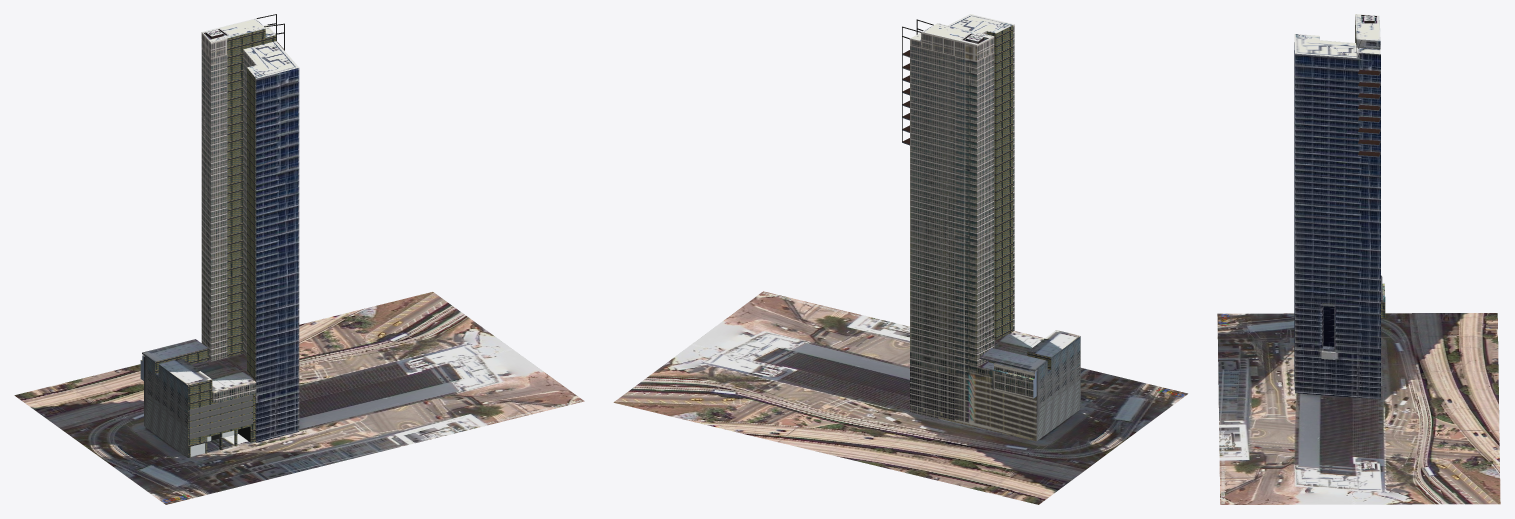
Rendered from Marquis-Miami.fbx.
3 views of the same model, side by side, from view 1: azimuth 30°, elevation 25°; view 2: azimuth 150°, elevation 25°; view 3: azimuth 270°, elevation 25° (orthographic). The views are drawn at different scales.
Parts seen in each view (by area): view 1: Google_Earth_Snapshot, Model; view 2: Google_Earth_Snapshot, Model; view 3: Google_Earth_Snapshot, Model.
Boxes of the visible parts, <box> form: Google_Earth_Snapshot: <box>14,292,584,504</box>; Model: <box>140,14,299,457</box>; Google_Earth_Snapshot: <box>613,291,1187,504</box>; Model: <box>902,14,1080,441</box>; Google_Earth_Snapshot: <box>1217,313,1500,504</box>; Model: <box>1294,14,1385,399</box>.
Size of the model in its own units: 9819 by 8458 by 6116.
